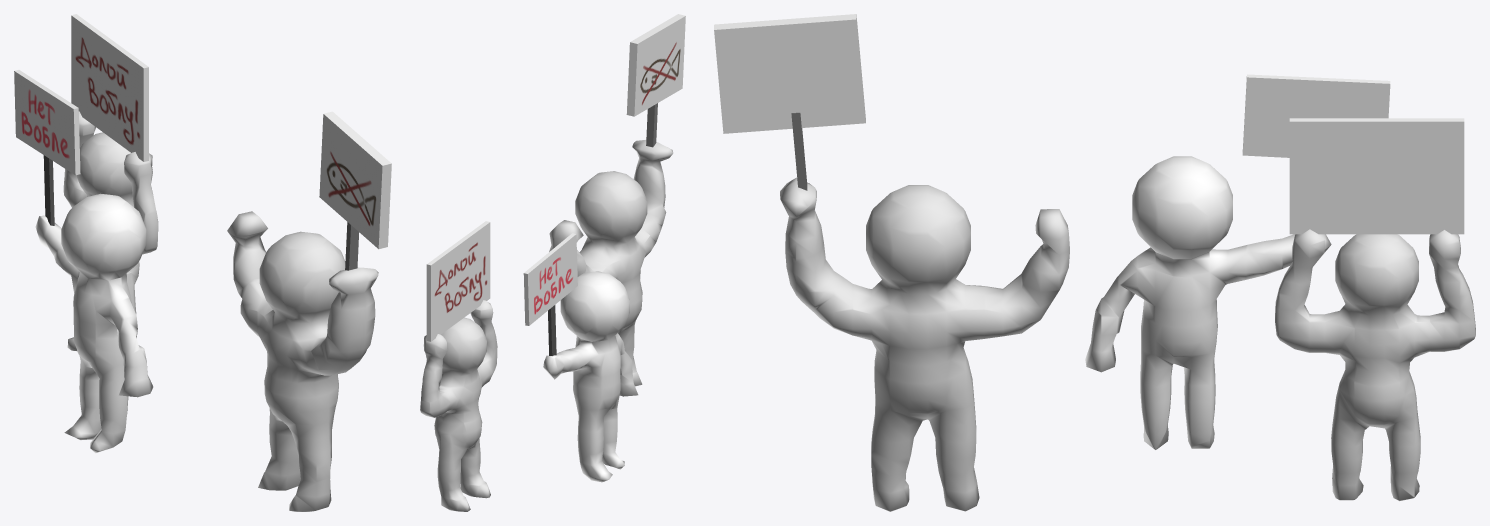
Rendered from Riot.glb.
3 renders of one model, left to right at view 1: azimuth 30°, elevation 25°; view 2: azimuth 150°, elevation 25°; view 3: azimuth 270°, elevation 25°, orthographic. The views are drawn at different scales.
Visible parts, largest first — view 1: Mball.014, man.001, Cube, Cube.001, man, sign, stick, Cube.002; view 2: man.001, Mball.014, man, Cube, Cube.001, sign, Cube.002, stick; view 3: Mball.014, man, man.001, Cube, Cube.001, sign.
Boxes of the visible parts, <box> form: Mball.014: <box>227,211,378,511</box>; man.001: <box>35,193,153,453</box>; Cube: <box>71,14,148,161</box>; Cube.001: <box>319,111,391,249</box>; man: <box>63,111,158,350</box>; sign: <box>14,70,80,175</box>; stick: <box>43,155,54,225</box>; Cube.002: <box>345,222,359,270</box>; man.001: <box>543,271,638,482</box>; Mball.014: <box>549,140,673,386</box>; man: <box>420,300,497,511</box>; Cube: <box>426,221,490,341</box>; Cube.001: <box>626,14,685,116</box>; sign: <box>523,233,577,325</box>; Cube.002: <box>646,103,657,147</box>; stick: <box>548,305,556,355</box>; Mball.014: <box>780,177,1069,511</box>; man: <box>1275,229,1475,501</box>; man.001: <box>1085,156,1331,449</box>; Cube: <box>1289,118,1464,234</box>; Cube.001: <box>714,14,865,133</box>; sign: <box>1242,74,1390,157</box>.
Size of the model in its own units: 1.77 by 4.21 by 5.91.
6 materials, 6 textured.
